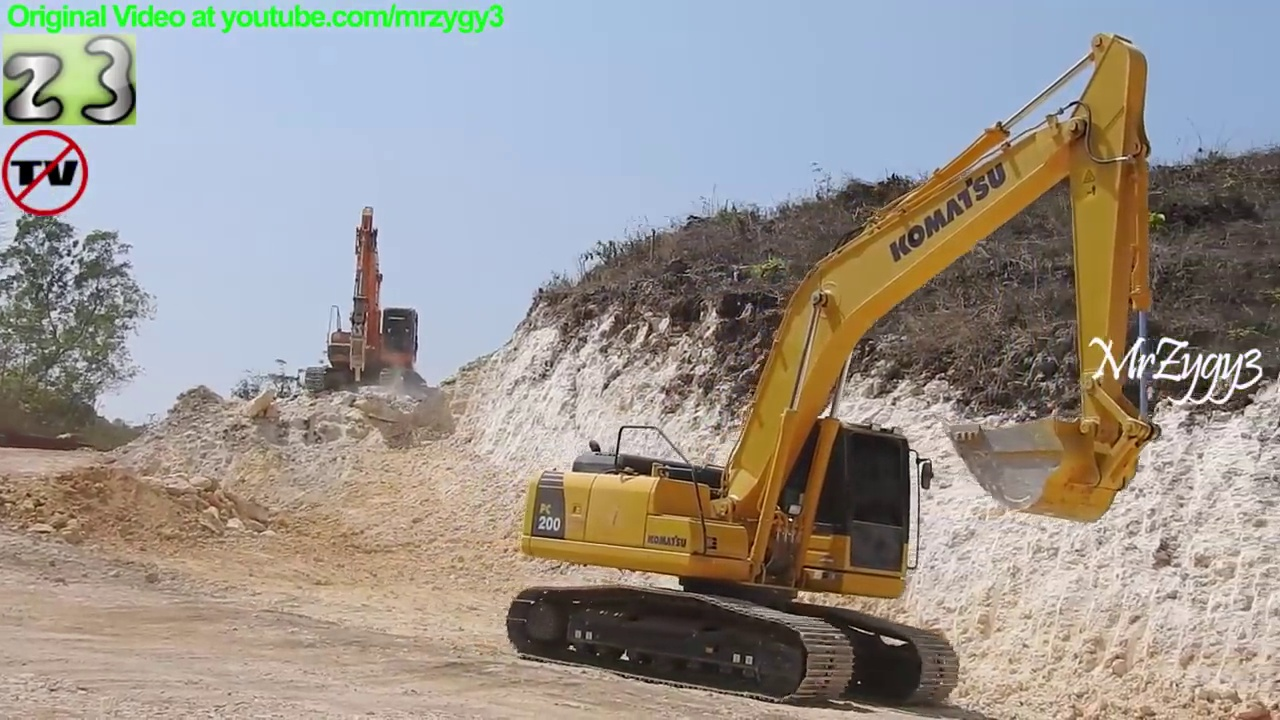excavator: (499, 28, 1168, 712), (300, 202, 434, 410)
